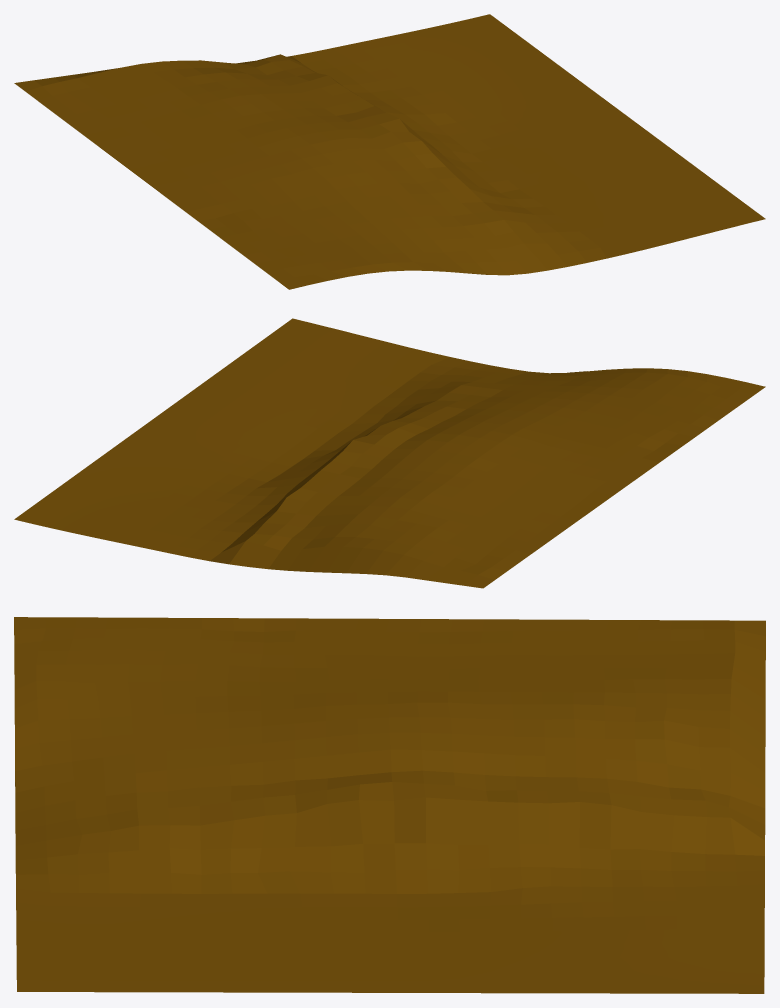
The model's file is Terrain01.glb.
3 renders of one model, top to bottom at view 1: azimuth 30°, elevation 25°; view 2: azimuth 150°, elevation 25°; view 3: azimuth 270°, elevation 25°, orthographic. The views are drawn at different scales.
Parts seen in each view (by area): view 1: Landscape; view 2: Landscape; view 3: Landscape.
Part boxes in pixels (<box>): Landscape: <box>14,14,765,289</box>; Landscape: <box>14,318,765,588</box>; Landscape: <box>14,617,765,993</box>.
Size of the model in its own units: 2 by 0.2083 by 2.02.
